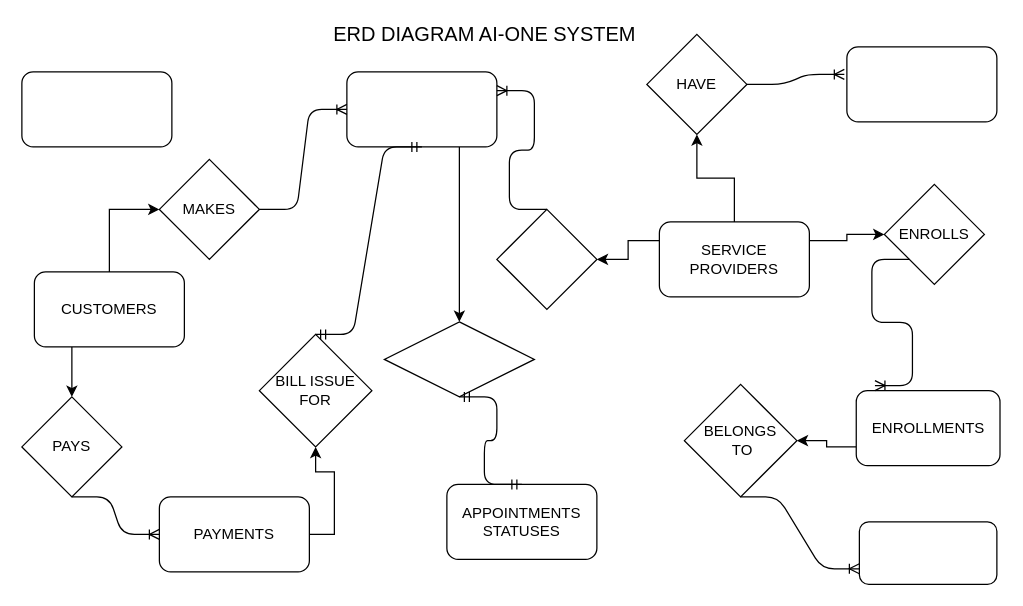
The diagram is 1023 pixels wide and 606 high, and some of its shapes have lost their labels. Here are the shapes that lost their labels. From the top down, the centre of each, then its label:
(x=921, y=84): SHOPS
(x=96, y=109): ADMIN
(x=421, y=109): APPOINTMENTS
(x=546, y=258): CONFIRMS
(x=458, y=359): points to
(x=927, y=552): CATEGORIES
